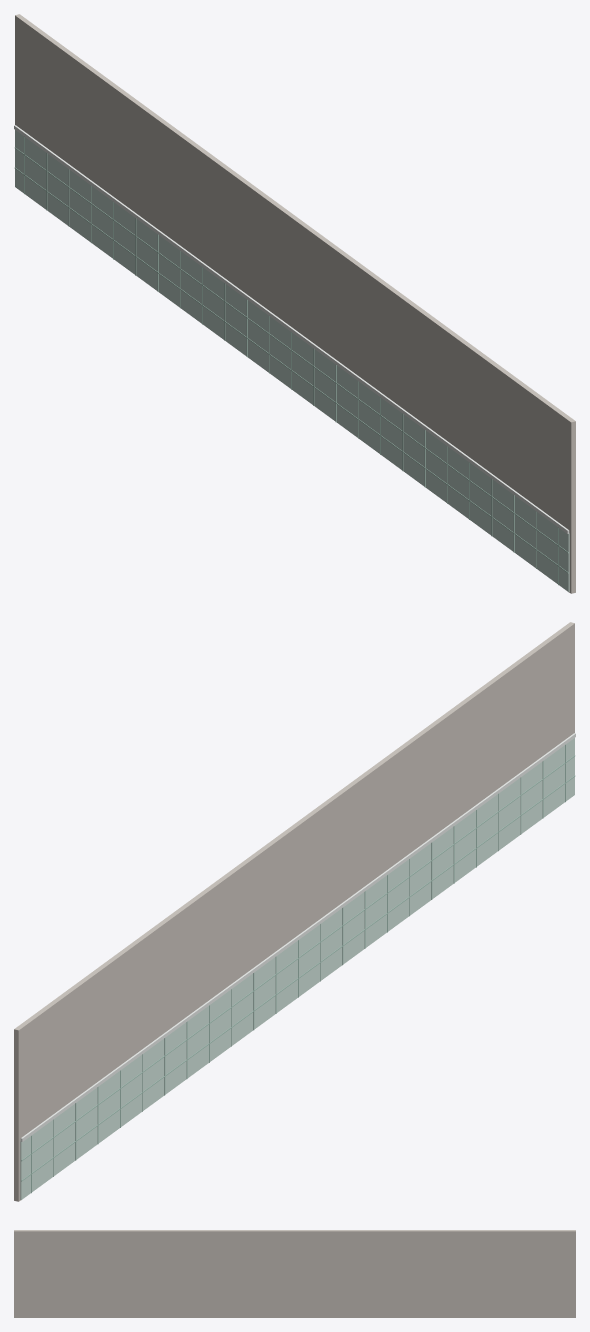
Rendered from wall-right.glb.
3 renders of one model, top to bottom at view 1: azimuth 30°, elevation 25°; view 2: azimuth 150°, elevation 25°; view 3: azimuth 270°, elevation 25°, orthographic. The views are drawn at different scales.
Parts seen in each view (by area): view 1: wall_shell, tile_skirt, molding, tile_joint_h_1, tile_joint_h_0; view 2: wall_shell, tile_skirt, molding, tile_joint_h_0, tile_joint_h_1; view 3: wall_shell.
Part boxes in pixels (box(x1,y1,x2,y2)): wall_shell: box(15, 14, 575, 593); tile_skirt: box(15, 130, 569, 591); molding: box(14, 125, 569, 533); tile_joint_h_1: box(14, 147, 568, 553); tile_joint_h_0: box(14, 167, 568, 573); wall_shell: box(14, 622, 574, 1201); tile_skirt: box(20, 738, 574, 1199); molding: box(20, 733, 575, 1141); tile_joint_h_0: box(21, 775, 575, 1181); tile_joint_h_1: box(21, 755, 575, 1161); wall_shell: box(14, 1230, 575, 1317).
Size of the model in its own units: 0.1475 by 3.4 by 20.
